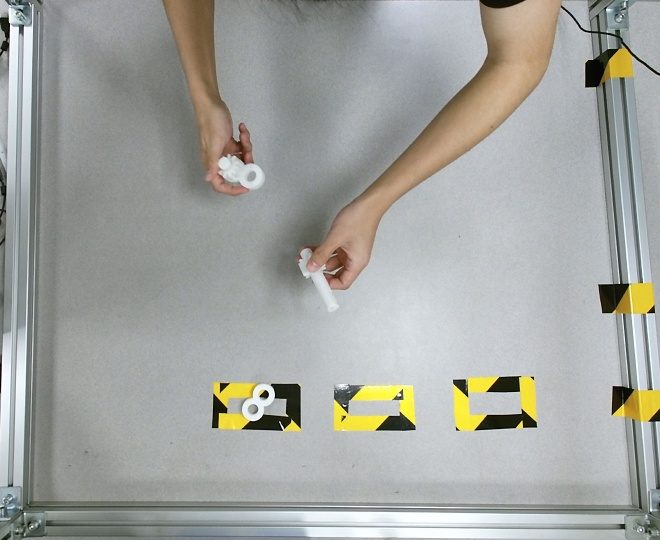stage_2: (217, 153, 265, 190)
